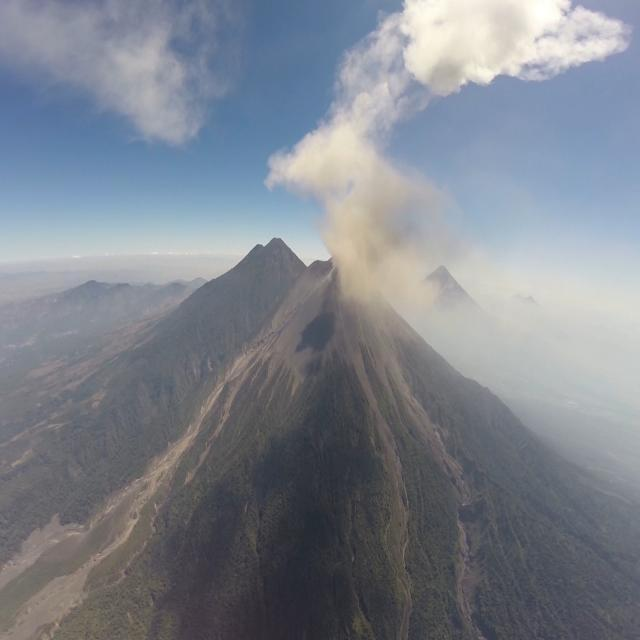Plume: (268, 115, 452, 324), (8, 0, 236, 149), (393, 1, 640, 92)
